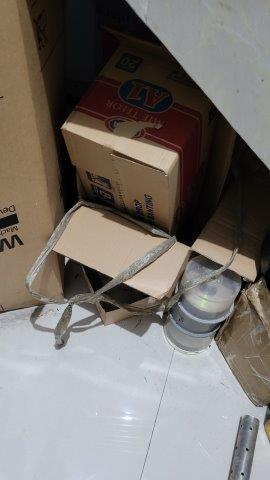kardus: (55, 33, 237, 228), (34, 204, 189, 326)
